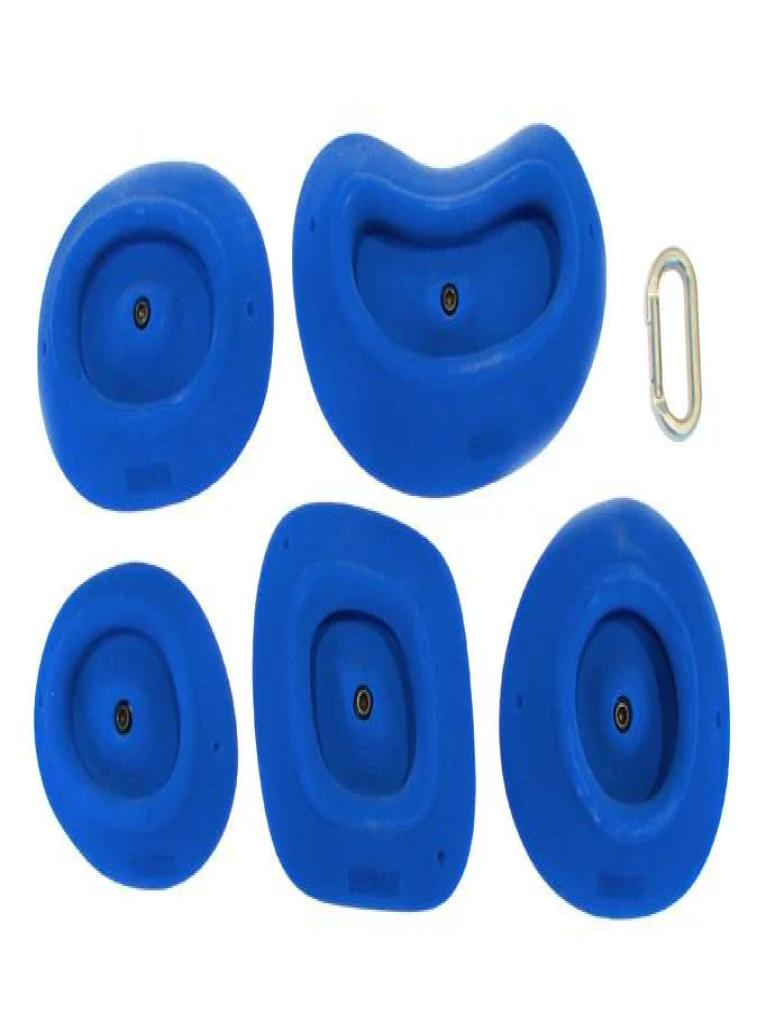pocket: (293, 125, 604, 494), (501, 500, 727, 914), (253, 507, 474, 908), (38, 164, 272, 509), (35, 565, 235, 886)
